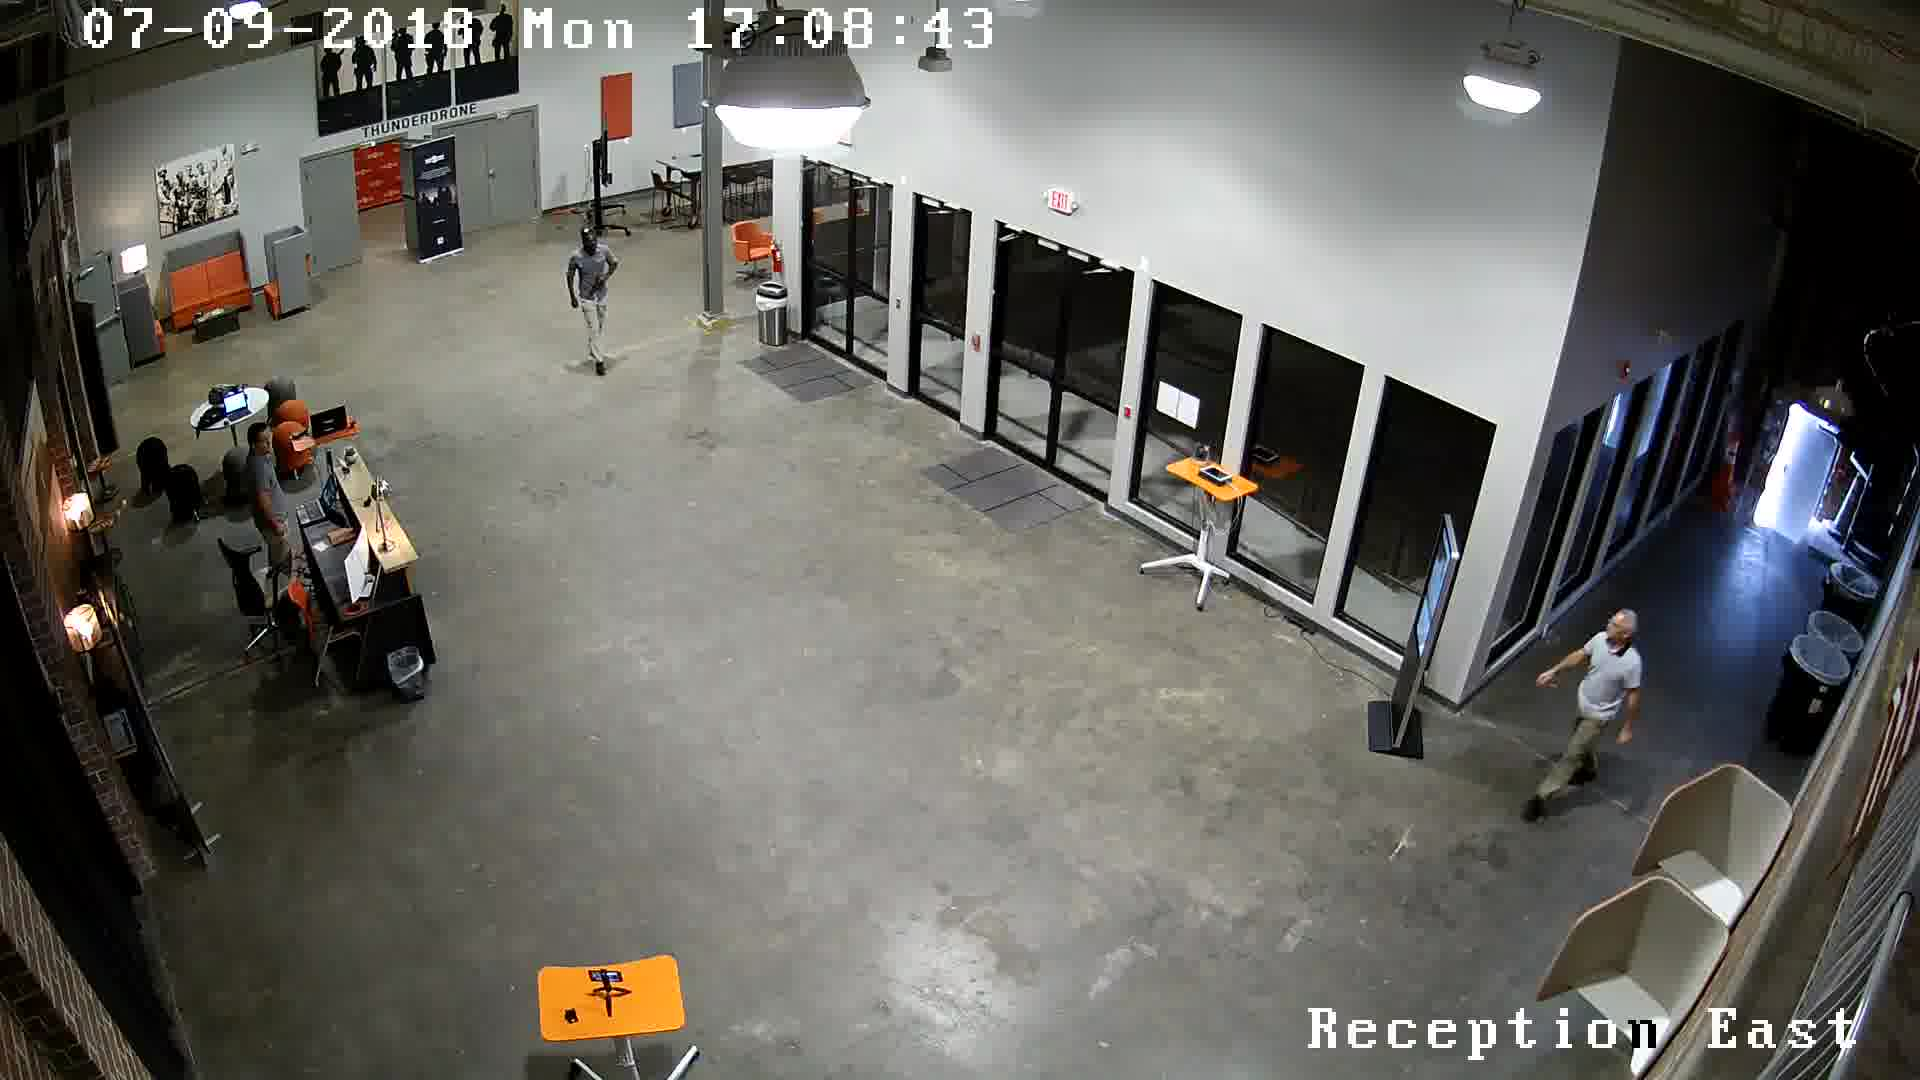pistol: (582, 273, 624, 307)
